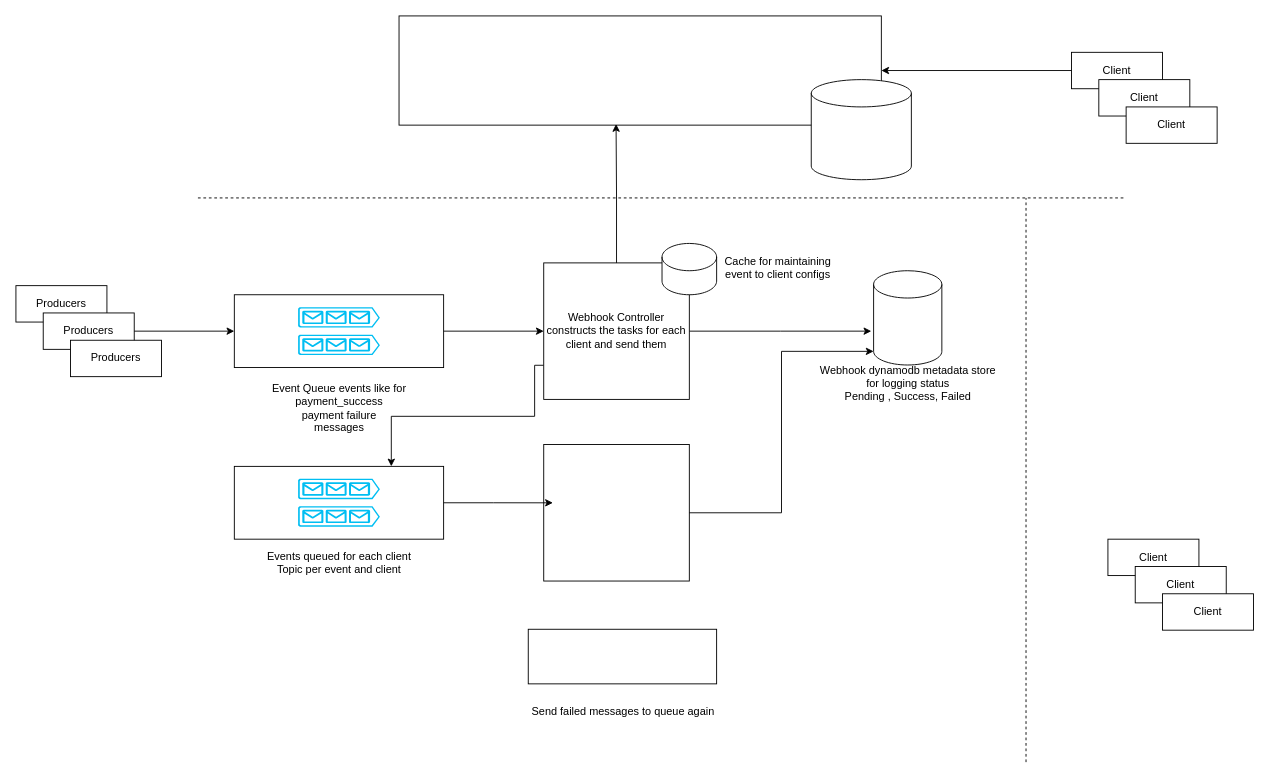
Some shapes in this 1269 by 779 pixel diagram are drawn without their labels. The centre of each missing label's shape, as x and y in pixels:
"Cron Jobs for failed messages" goes at [622,656].
"Relation DB to store webhook configurations" goes at [860,129].
"Webhook Registration Services" goes at [639,70].
"Webhook worker for each client event with internal Kafka based retries" goes at [616,512].
